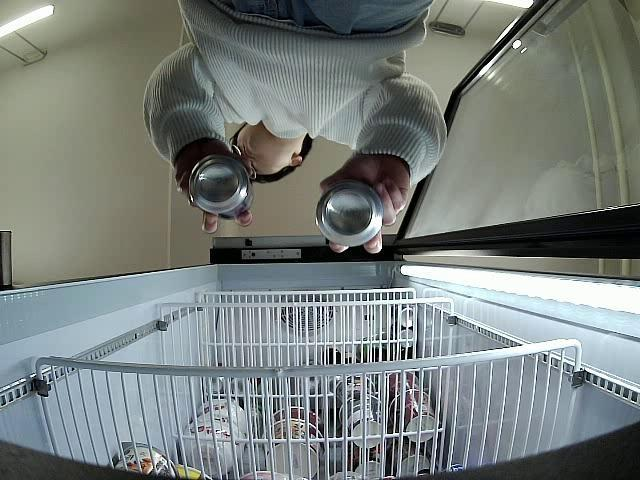14_welchsGrape: (314, 182, 384, 248), (190, 156, 256, 222)
